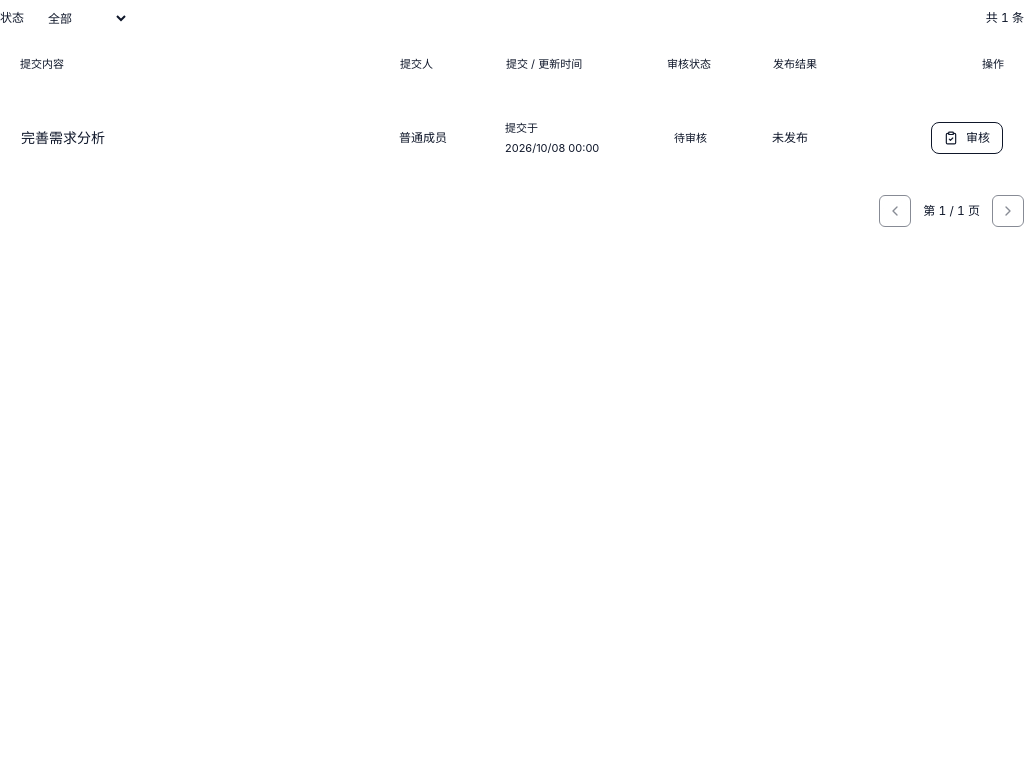
提交与审核 › 未记录来源不会将全部正文伪装成新增，仍可查看全文
Click the button "审核".
click(967, 138)  # box [931,122,1003,154]
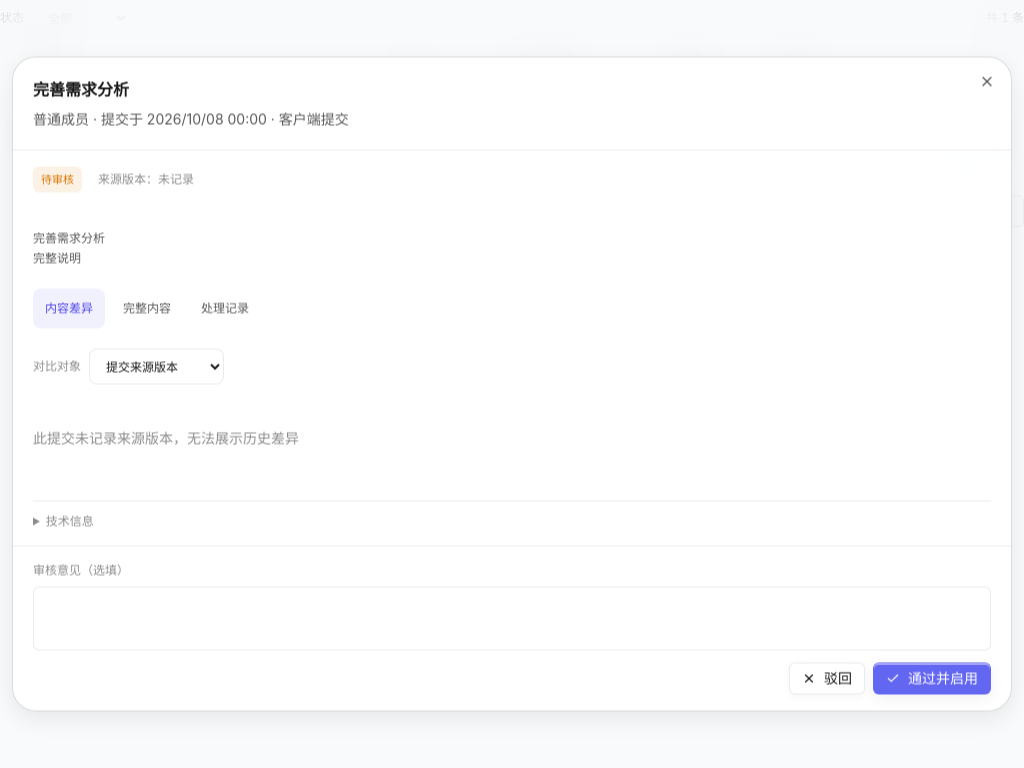
Result: the text "此提交未记录来源版本，无法展示历史差异" is shown at [33,430,299,446]
Press the mouse on the tab "完整内容" at (147, 308), box [111,288,183,328]
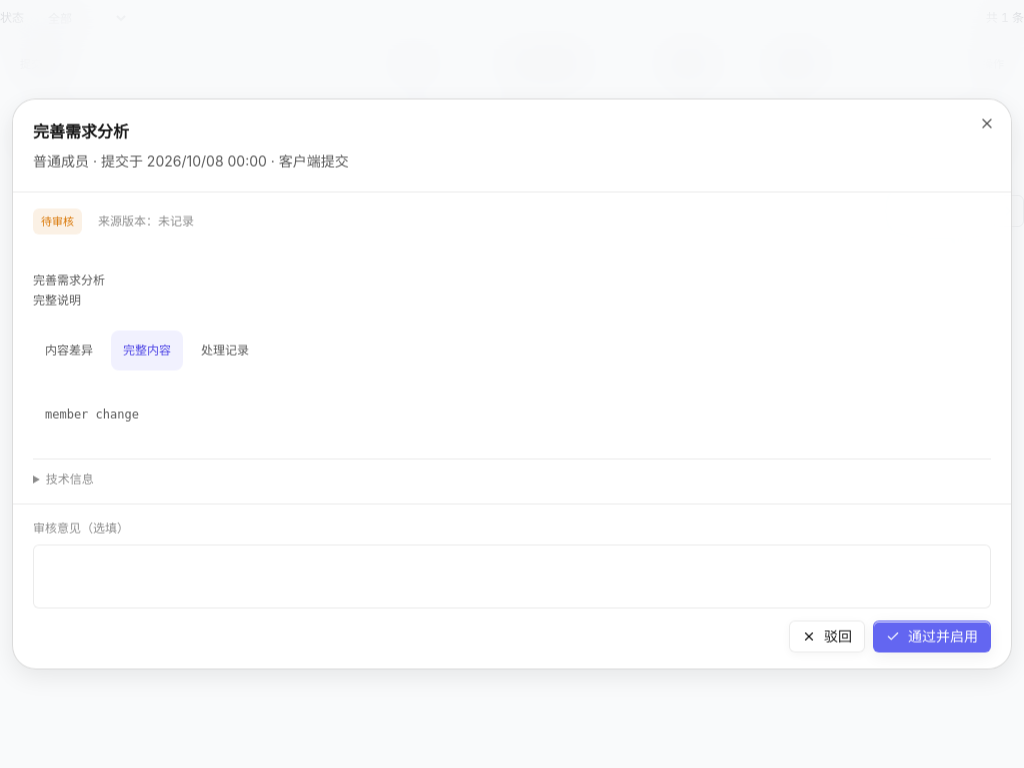
Result: the element named "完整正文" reads "member change" at [45,408,139,422]
